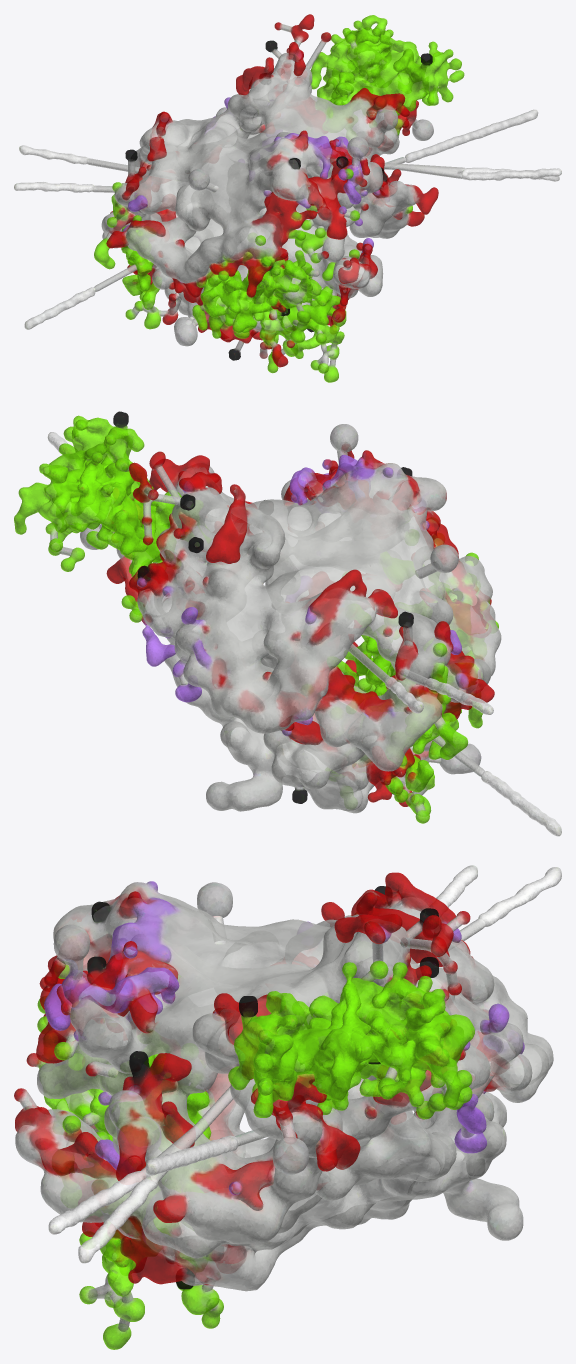
The model's file is cassiopeia-small.glb.
The picture shows the model from 3 angles, top to bottom: view 1: azimuth 30°, elevation 25°; view 2: azimuth 150°, elevation 25°; view 3: azimuth 270°, elevation 25°; orthographic projection. The views are drawn at different scales.
Parts seen in each view (by area): view 1: Cassiopeia A Supernova; view 2: Cassiopeia A Supernova; view 3: Cassiopeia A Supernova.
Part boxes in pixels (x1=…): Cassiopeia A Supernova: x1=14, y1=14, x2=561, y2=382; Cassiopeia A Supernova: x1=14, y1=411, x2=561, y2=836; Cassiopeia A Supernova: x1=14, y1=865, x2=561, y2=1349.
Bounding box in the file's own units: 18.91 × 11.39 × 11.37.
1 material, 1 textured.
